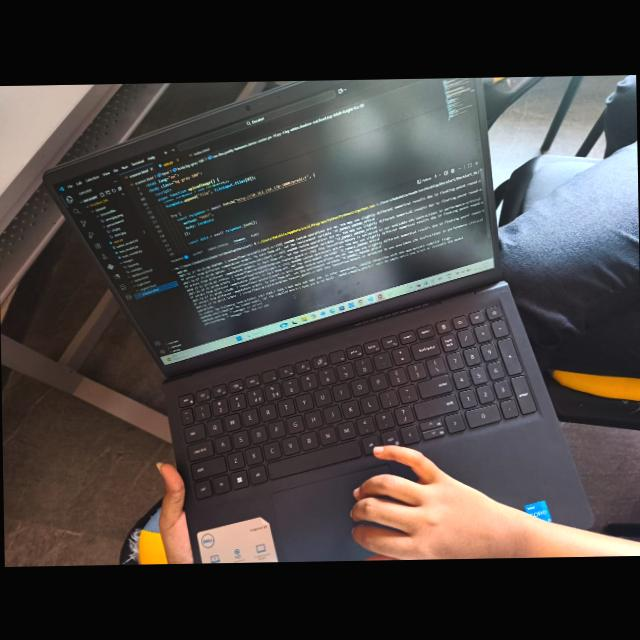laptop: (34, 74, 598, 558)
